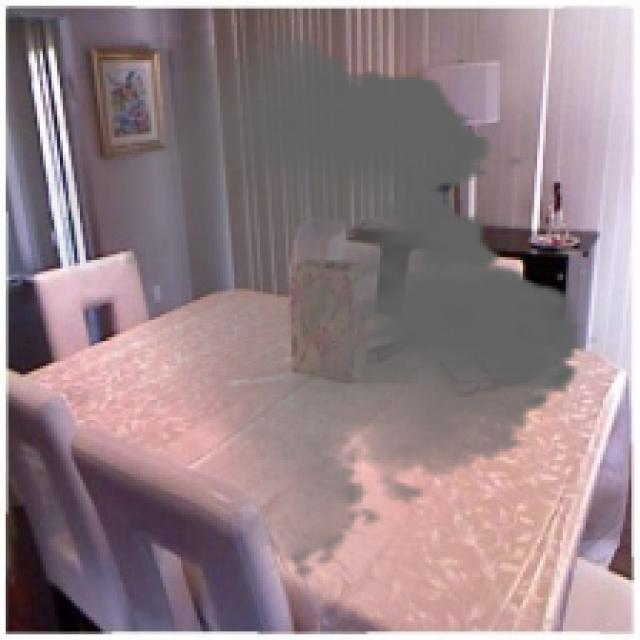Smoke: (37, 26, 600, 580)
